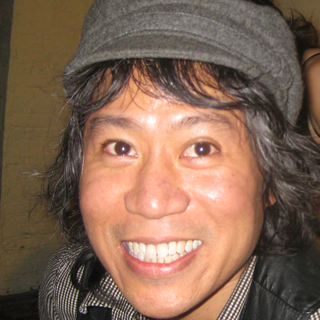eye: (98, 138, 143, 163), (179, 139, 224, 163)
